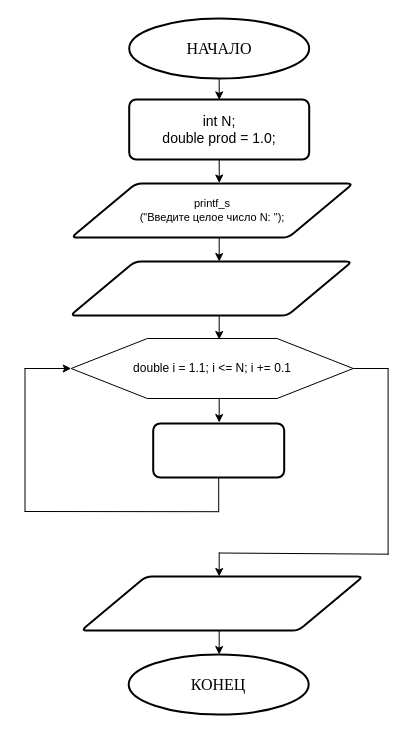
Image size: 407x732. Some labels were removed from this diagram. The box of each missing label's shape, as (x1, y1, x2, y2) in pixels:
printf_s ("Произведение: %lf", prod);: (80, 575, 364, 631)
prod *= i;: (152, 422, 285, 478)
scanf_s ("%d", &N);: (69, 260, 353, 316)
